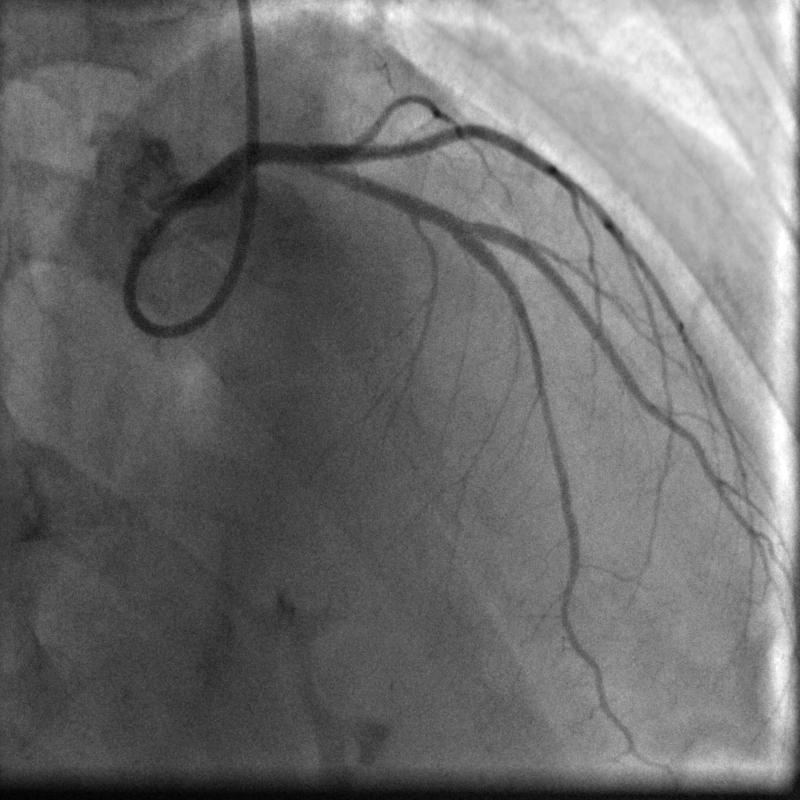Stenosis: (439, 205, 462, 242)
